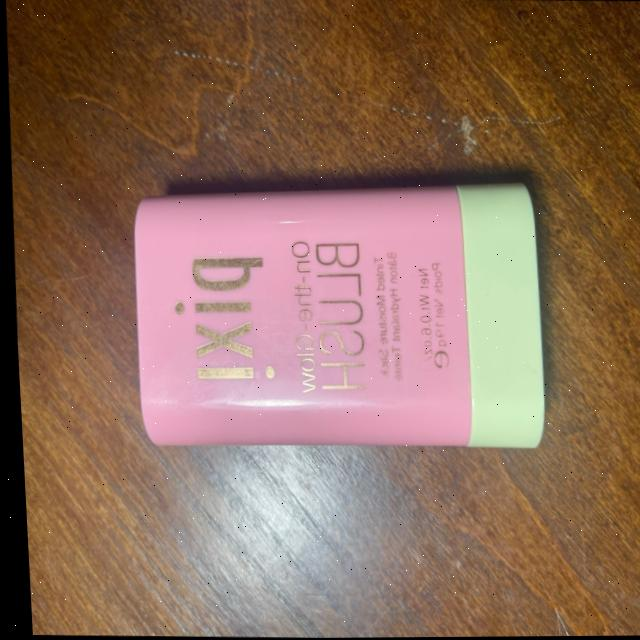blush: (97, 143, 577, 494)
